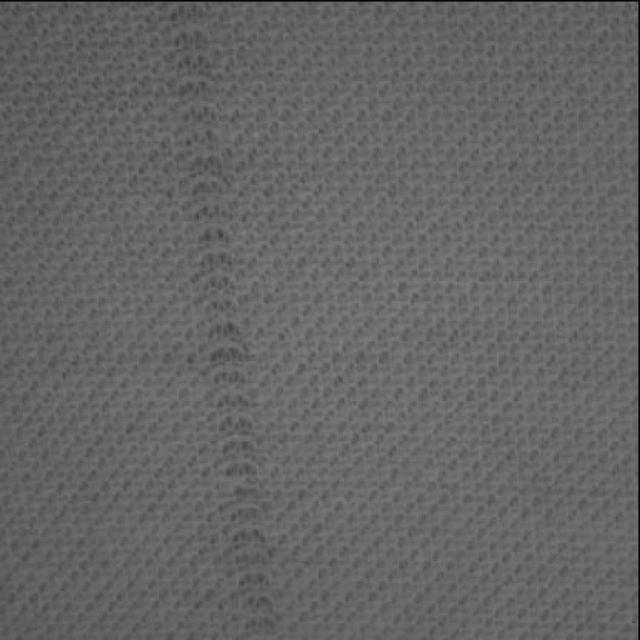Line: (165, 7, 281, 640)
